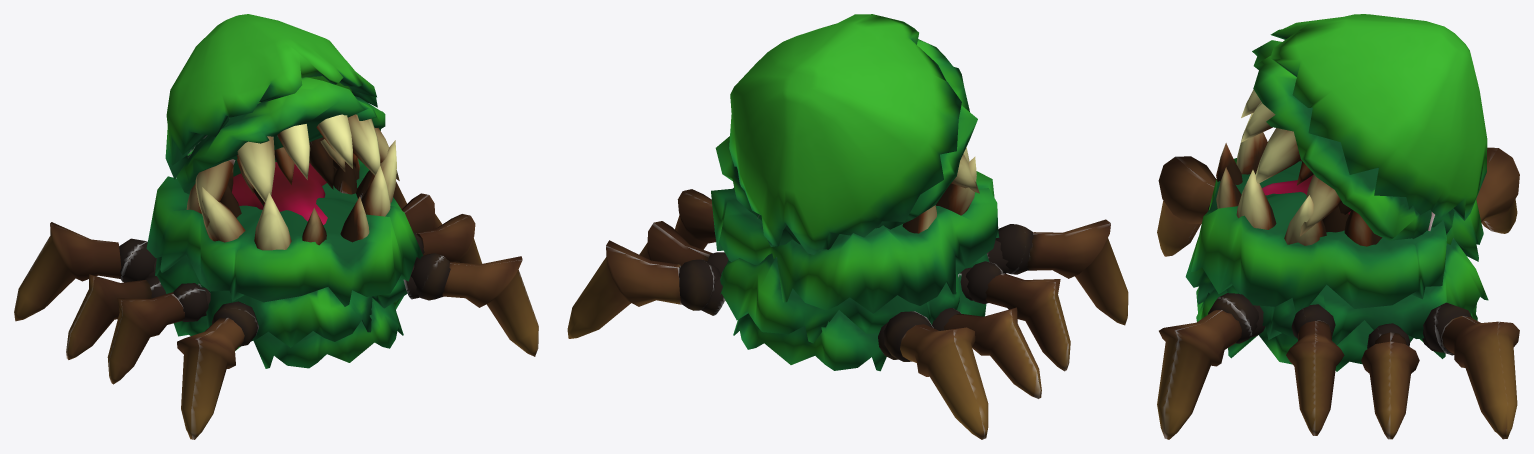
File: MimicArbusto3.fbx
3 views of the same model, side by side, from view 1: azimuth 30°, elevation 25°; view 2: azimuth 150°, elevation 25°; view 3: azimuth 270°, elevation 25° (orthographic). The views are drawn at different scales.
Visible parts, largest first — view 1: MimicPadrãoVerao; view 2: MimicPadrãoVerao; view 3: MimicPadrãoVerao.
Part boxes in pixels (bbox=[...]): MimicPadrãoVerao: bbox=[14, 14, 538, 439]; MimicPadrãoVerao: bbox=[567, 14, 1128, 439]; MimicPadrãoVerao: bbox=[1157, 14, 1519, 439].
Bounding box in the file's own units: 1784 × 1302 × 1308.
